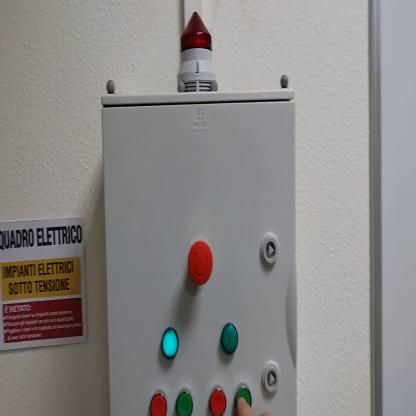hand: (238, 399, 253, 413)
left green button: (178, 391, 194, 414)
left red button: (210, 387, 227, 414), (151, 393, 168, 414)
right green button: (235, 387, 254, 414)
